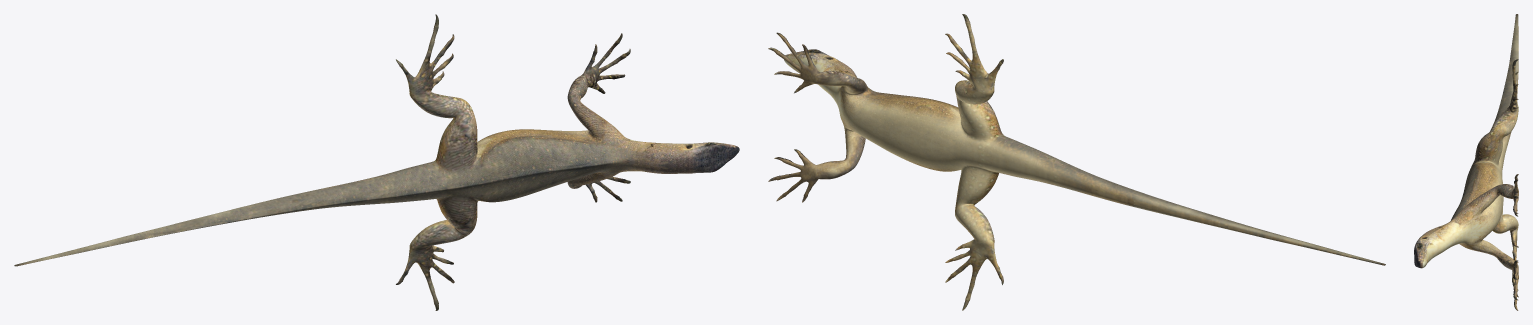
File: lizard.gltf
3 renders of one model, left to right at view 1: azimuth 30°, elevation 25°; view 2: azimuth 150°, elevation 25°; view 3: azimuth 270°, elevation 25°, orthographic. The views are drawn at different scales.
Visible parts, largest first — view 1: 12275_Lizard_v1_l2; view 2: 12275_Lizard_v1_l2; view 3: 12275_Lizard_v1_l2.
Boxes of the visible parts, box(x1,y1,x2,y2) form: 12275_Lizard_v1_l2: box(14, 14, 739, 310); 12275_Lizard_v1_l2: box(768, 14, 1385, 310); 12275_Lizard_v1_l2: box(1414, 14, 1518, 310).
Bounding box in the file's own units: 45.4 × 19.41 × 7.98.
Materials: 1 (1 with a texture image).
